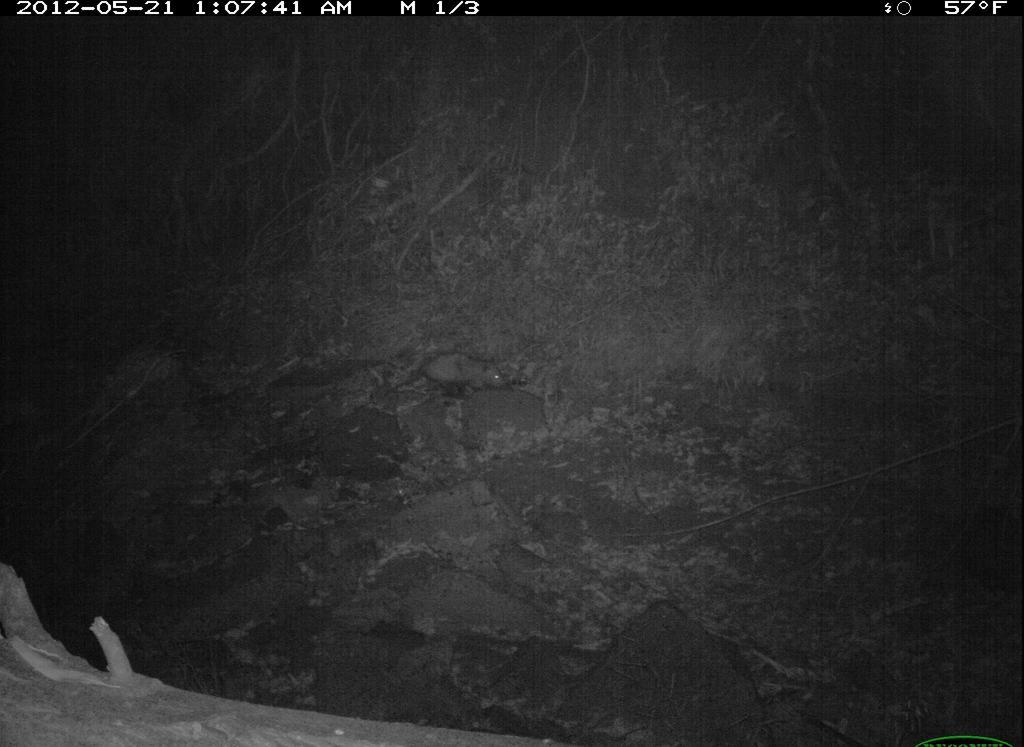opossum: (356, 341, 523, 420)
